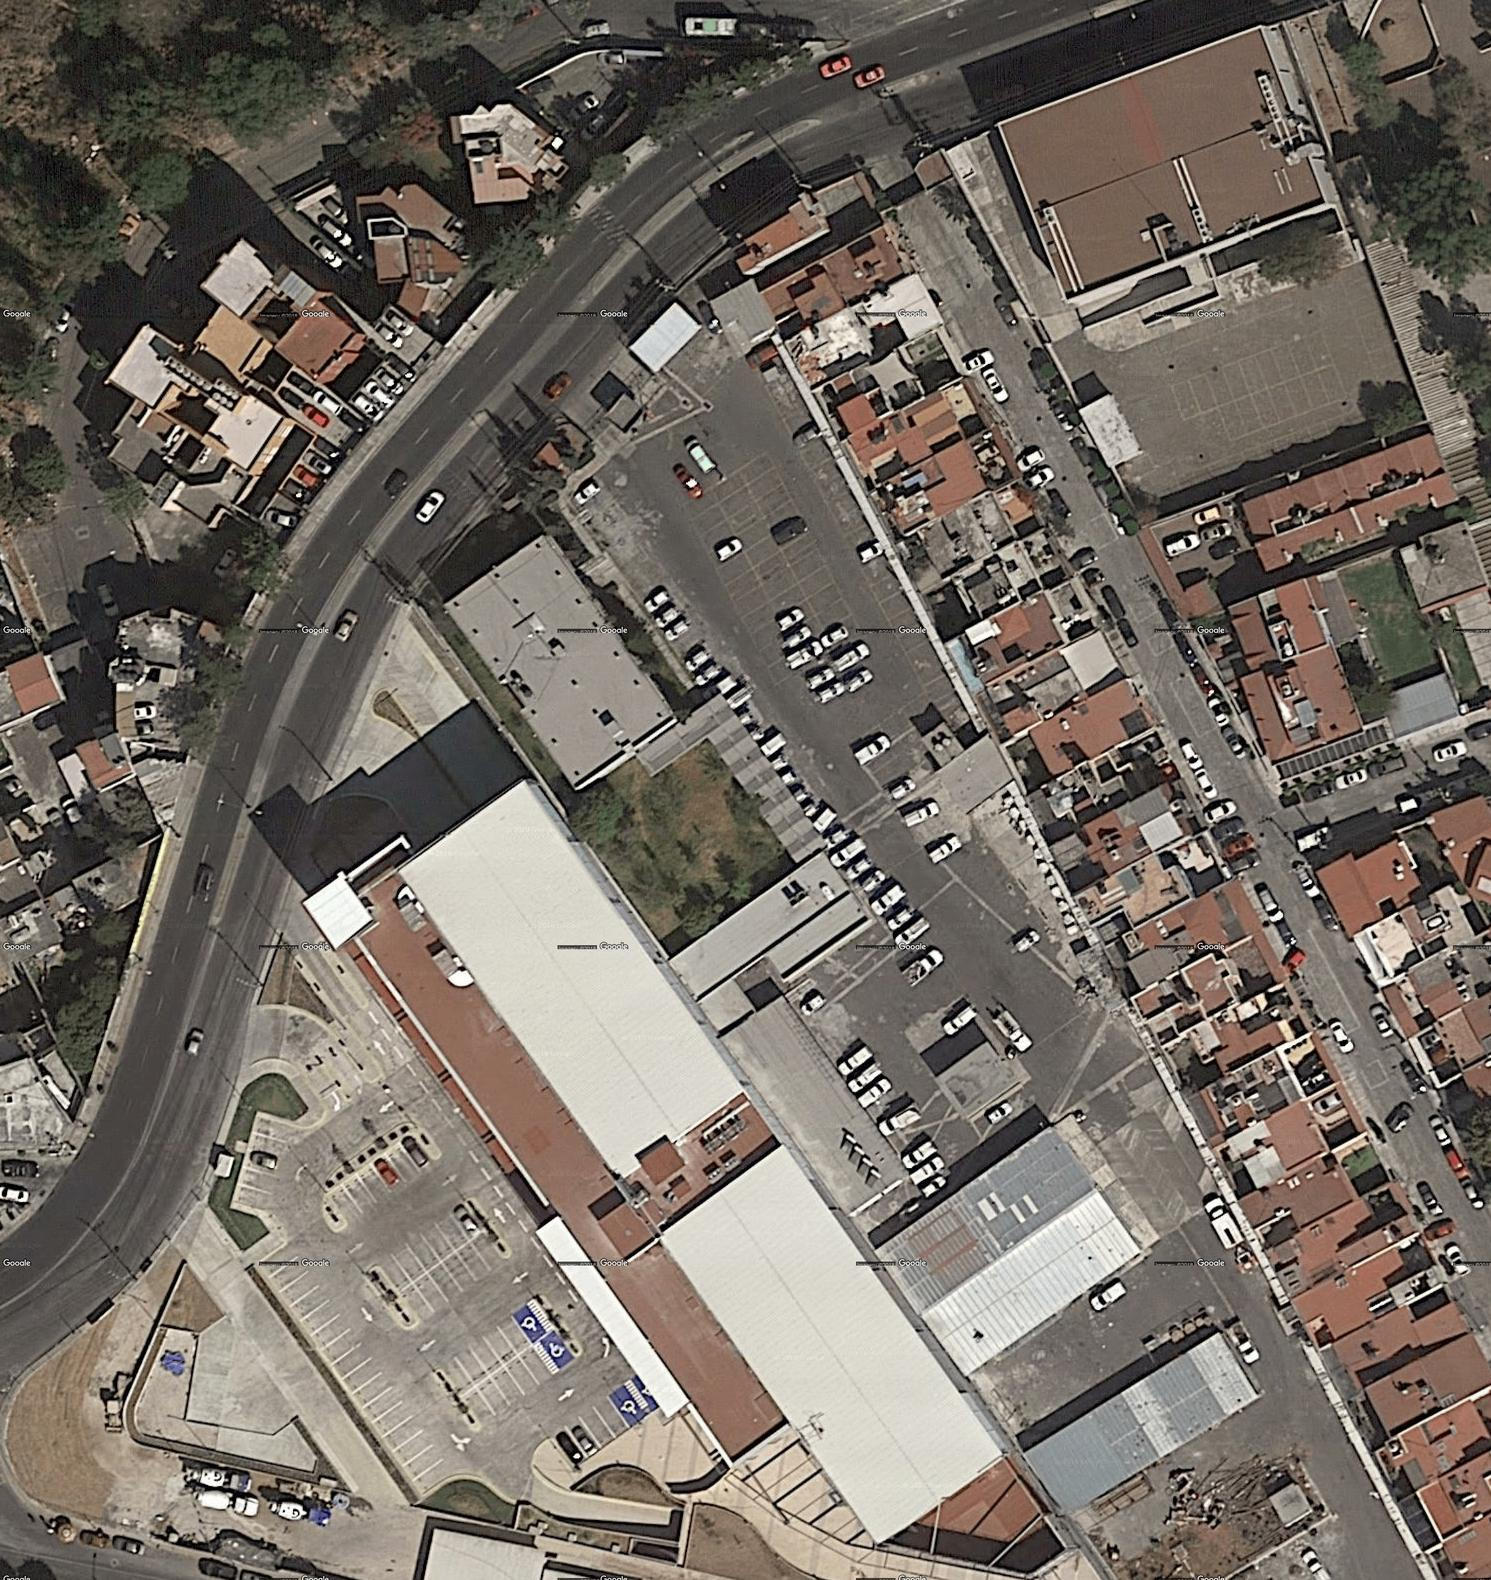parkingspot: (642, 583, 935, 950), (744, 339, 958, 706), (254, 1240, 455, 1500), (708, 468, 858, 710), (736, 448, 884, 692), (680, 486, 807, 688), (834, 1042, 956, 1200), (1169, 328, 1338, 423), (371, 1193, 488, 1297), (436, 1300, 549, 1401), (395, 1228, 510, 1326), (327, 1132, 437, 1230), (1216, 363, 1349, 443), (1334, 259, 1413, 394), (549, 1382, 650, 1469), (458, 1345, 556, 1432), (230, 1109, 298, 1221), (537, 1329, 579, 1374)
